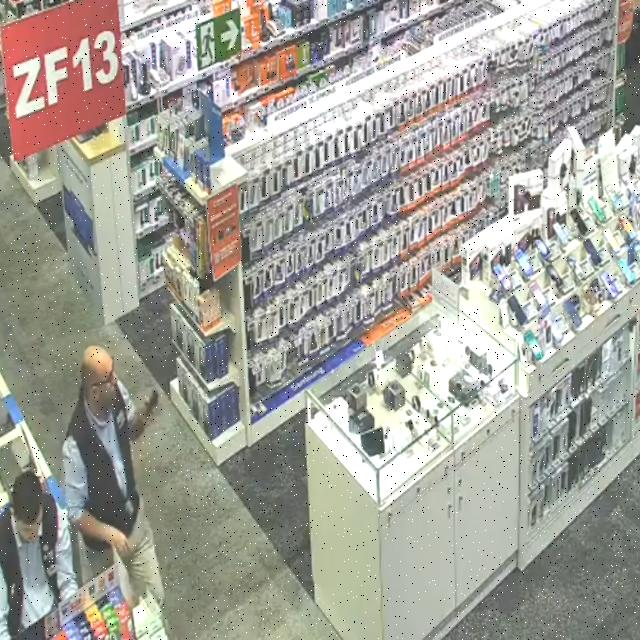hands: (106, 527, 129, 557), (139, 398, 156, 426)
person: (63, 347, 163, 605), (0, 472, 77, 639)
